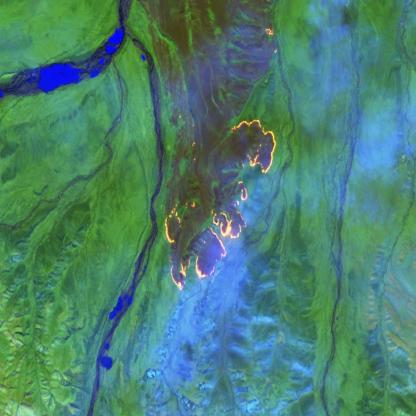fire: (163, 118, 280, 293), (262, 20, 276, 42)
